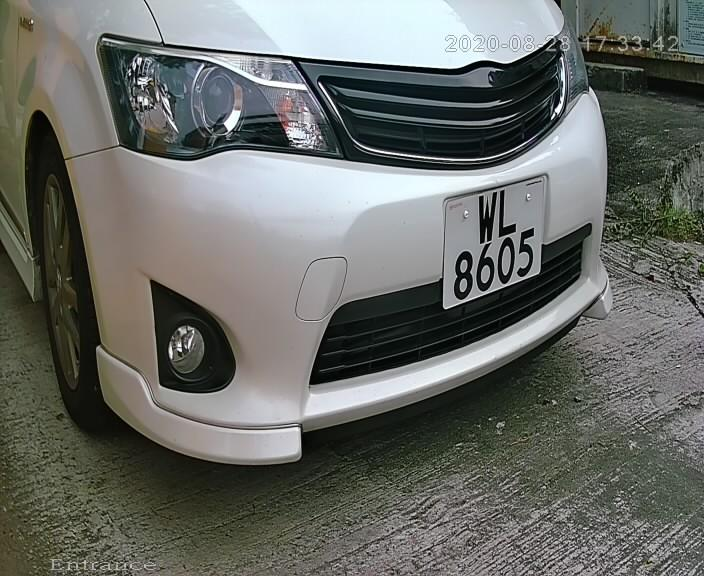License Plate: (420, 160, 565, 333)
